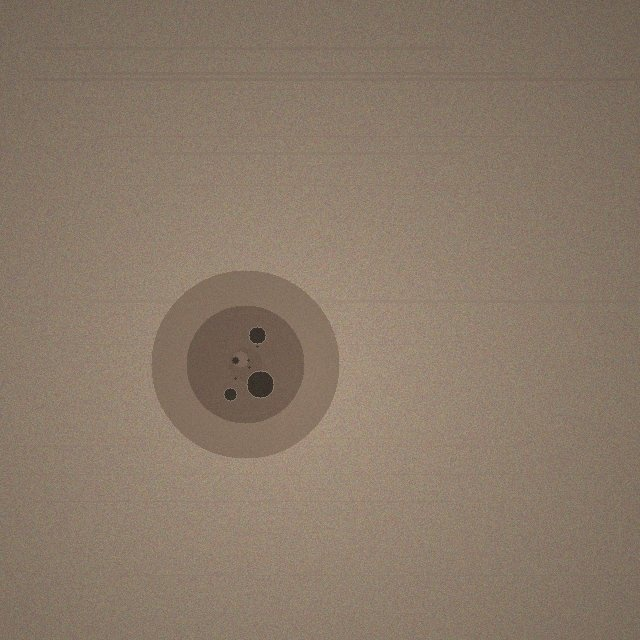shrinkage: (151, 270, 339, 458)
